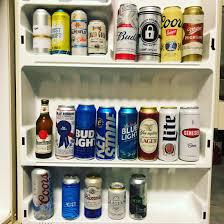beer: (33, 98, 202, 162), (29, 169, 147, 220), (117, 3, 206, 60), (31, 8, 108, 56)
